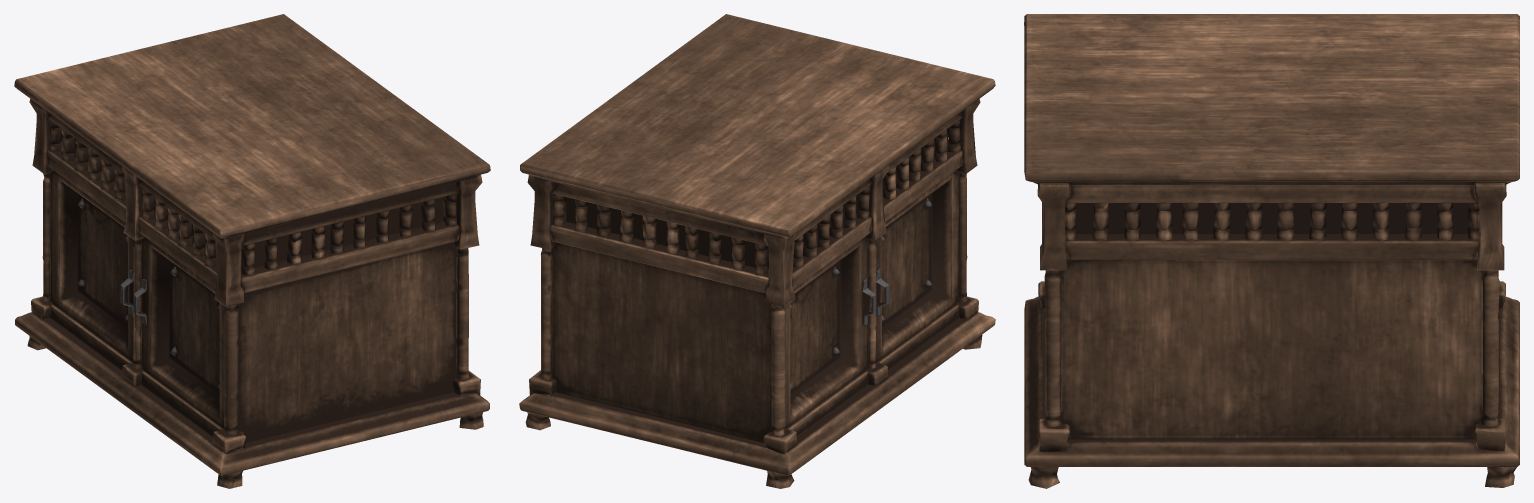
The model's file is SM_cabinet_01.fbx.
The picture shows the model from 3 angles, left to right: view 1: azimuth 30°, elevation 25°; view 2: azimuth 150°, elevation 25°; view 3: azimuth 270°, elevation 25°; orthographic projection. The views are drawn at different scales.
Visible parts, largest first — view 1: SM_cabinet_01_LOD0; view 2: SM_cabinet_01_LOD0; view 3: SM_cabinet_01_LOD0.
Part boxes in pixels (bbox=[...]): SM_cabinet_01_LOD0: bbox=[14, 14, 490, 488]; SM_cabinet_01_LOD0: bbox=[519, 14, 995, 488]; SM_cabinet_01_LOD0: bbox=[1024, 14, 1519, 488].
Bounding box in the file's own units: 113 × 148 × 104.
